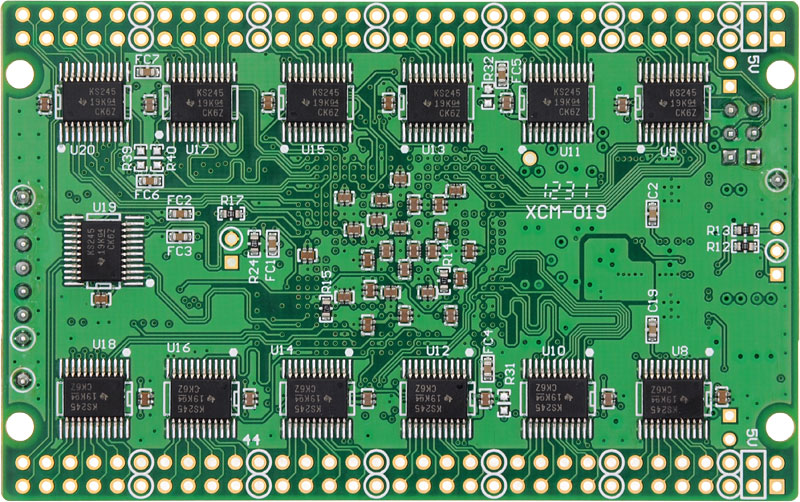capacitor C19: (645, 317, 660, 344)
capacitor C2: (645, 200, 660, 229)
capacitor FC1: (267, 230, 280, 258)
capacitor FC2: (164, 208, 196, 221)
capacitor FC3: (165, 229, 194, 245)
capacitor FC4: (481, 356, 494, 383)
capacitor FC5: (496, 61, 508, 87)
capacitor FC6: (134, 172, 165, 188)
capacitor FC7: (135, 67, 160, 80)
component text" "KS245 19K04 CK6Z: (84, 224, 119, 257), (67, 379, 102, 412), (174, 381, 209, 414), (291, 381, 326, 414), (412, 382, 447, 415), (531, 381, 566, 414), (648, 382, 683, 415), (87, 85, 119, 119), (194, 85, 226, 119), (310, 85, 342, 119), (432, 85, 464, 119), (552, 84, 584, 118), (668, 84, 700, 118)
connector CN1: (718, 406, 740, 449)
connector CN2: (217, 225, 244, 273)
connector CN4: (763, 218, 789, 287)
connector CN5: (720, 53, 740, 98)
connector unknown: (12, 4, 790, 52), (13, 450, 791, 498)
ic U10: (524, 357, 593, 439)
ic U11: (524, 63, 597, 143)
ic U12: (400, 360, 476, 439)
ic U13: (405, 63, 471, 142)
ic U14: (280, 360, 350, 437)
ic U15: (280, 65, 352, 143)
ic U16: (166, 361, 234, 439)
ic U17: (166, 62, 238, 144)
ic U18: (61, 358, 129, 438)
ic U19: (65, 217, 141, 287)
ic U20: (61, 65, 128, 144)
ic U8: (639, 361, 709, 439)
ic U9: (638, 62, 709, 143)
pads R31: (495, 388, 513, 417)
pads R32: (480, 82, 497, 111)
pads R39: (134, 143, 147, 171)
pads R40: (151, 145, 163, 170)
pins unknown: (9, 180, 38, 353), (720, 99, 763, 172)
resistor R12: (733, 240, 761, 254)
resistor R13: (733, 224, 761, 239)
resistor R14: (439, 267, 448, 297)
resistor R15: (320, 295, 333, 323)
resistor R17: (217, 208, 245, 221)
resistor R24: (247, 231, 261, 258)
test point" TP1: (520, 148, 538, 168)
test point" unknown: (8, 364, 37, 394), (763, 166, 790, 194)
text "XCM-019: (523, 202, 610, 223)
text 1231: (537, 179, 595, 202)
text 44: (242, 432, 261, 449)
text 5V: (744, 425, 765, 450), (747, 51, 761, 76)
text C19: (645, 288, 662, 314)
text C2: (647, 176, 660, 200)
text FC1: (264, 256, 277, 286)
text FC2: (167, 193, 194, 210)
text FC3: (164, 245, 194, 261)
text FC4: (480, 327, 499, 357)
text FC5: (509, 57, 522, 87)
text FC6: (134, 188, 161, 203)
text FC7: (133, 55, 161, 66)
text R12: (704, 238, 731, 255)
text R13: (705, 224, 731, 238)
text R14: (442, 241, 453, 267)
text R15: (318, 270, 334, 296)
text R24: (248, 258, 261, 290)
text R31: (503, 361, 516, 388)
text R32: (482, 54, 495, 86)
text R39: (119, 145, 135, 174)
text R40: (166, 147, 178, 172)
text U10: (541, 343, 574, 356)
text U11: (553, 142, 582, 160)
text U12: (425, 343, 455, 358)
text U13: (419, 145, 445, 156)
text U14: (269, 341, 297, 357)
text U15: (300, 145, 327, 159)
text U16: (164, 339, 196, 357)
text U17: (185, 142, 213, 158)
text U18: (87, 336, 118, 351)
text U19: (90, 198, 122, 213)
text U20: (66, 145, 97, 156)
text U8: (671, 345, 692, 361)
text U9: (656, 145, 682, 161)
unknown: (243, 386, 259, 411), (136, 389, 155, 409), (478, 390, 495, 411), (361, 313, 376, 336), (602, 387, 617, 408), (361, 250, 376, 271), (379, 240, 394, 261), (389, 220, 411, 234), (446, 185, 466, 200), (408, 194, 422, 215), (381, 286, 403, 299), (361, 390, 376, 409), (397, 261, 412, 280), (261, 92, 274, 113), (297, 249, 318, 262), (92, 294, 111, 308), (500, 94, 514, 113), (335, 191, 354, 205), (455, 270, 468, 290), (464, 241, 477, 261), (38, 92, 50, 113), (426, 242, 439, 261), (434, 195, 447, 214), (616, 96, 629, 115), (344, 224, 364, 236), (435, 224, 447, 244), (445, 307, 459, 324), (408, 242, 422, 259), (381, 95, 394, 113), (391, 173, 410, 185), (418, 288, 438, 299), (145, 95, 156, 114), (717, 389, 728, 408), (336, 292, 355, 303), (370, 214, 387, 226), (401, 307, 413, 324), (373, 195, 391, 206), (366, 281, 376, 300)
